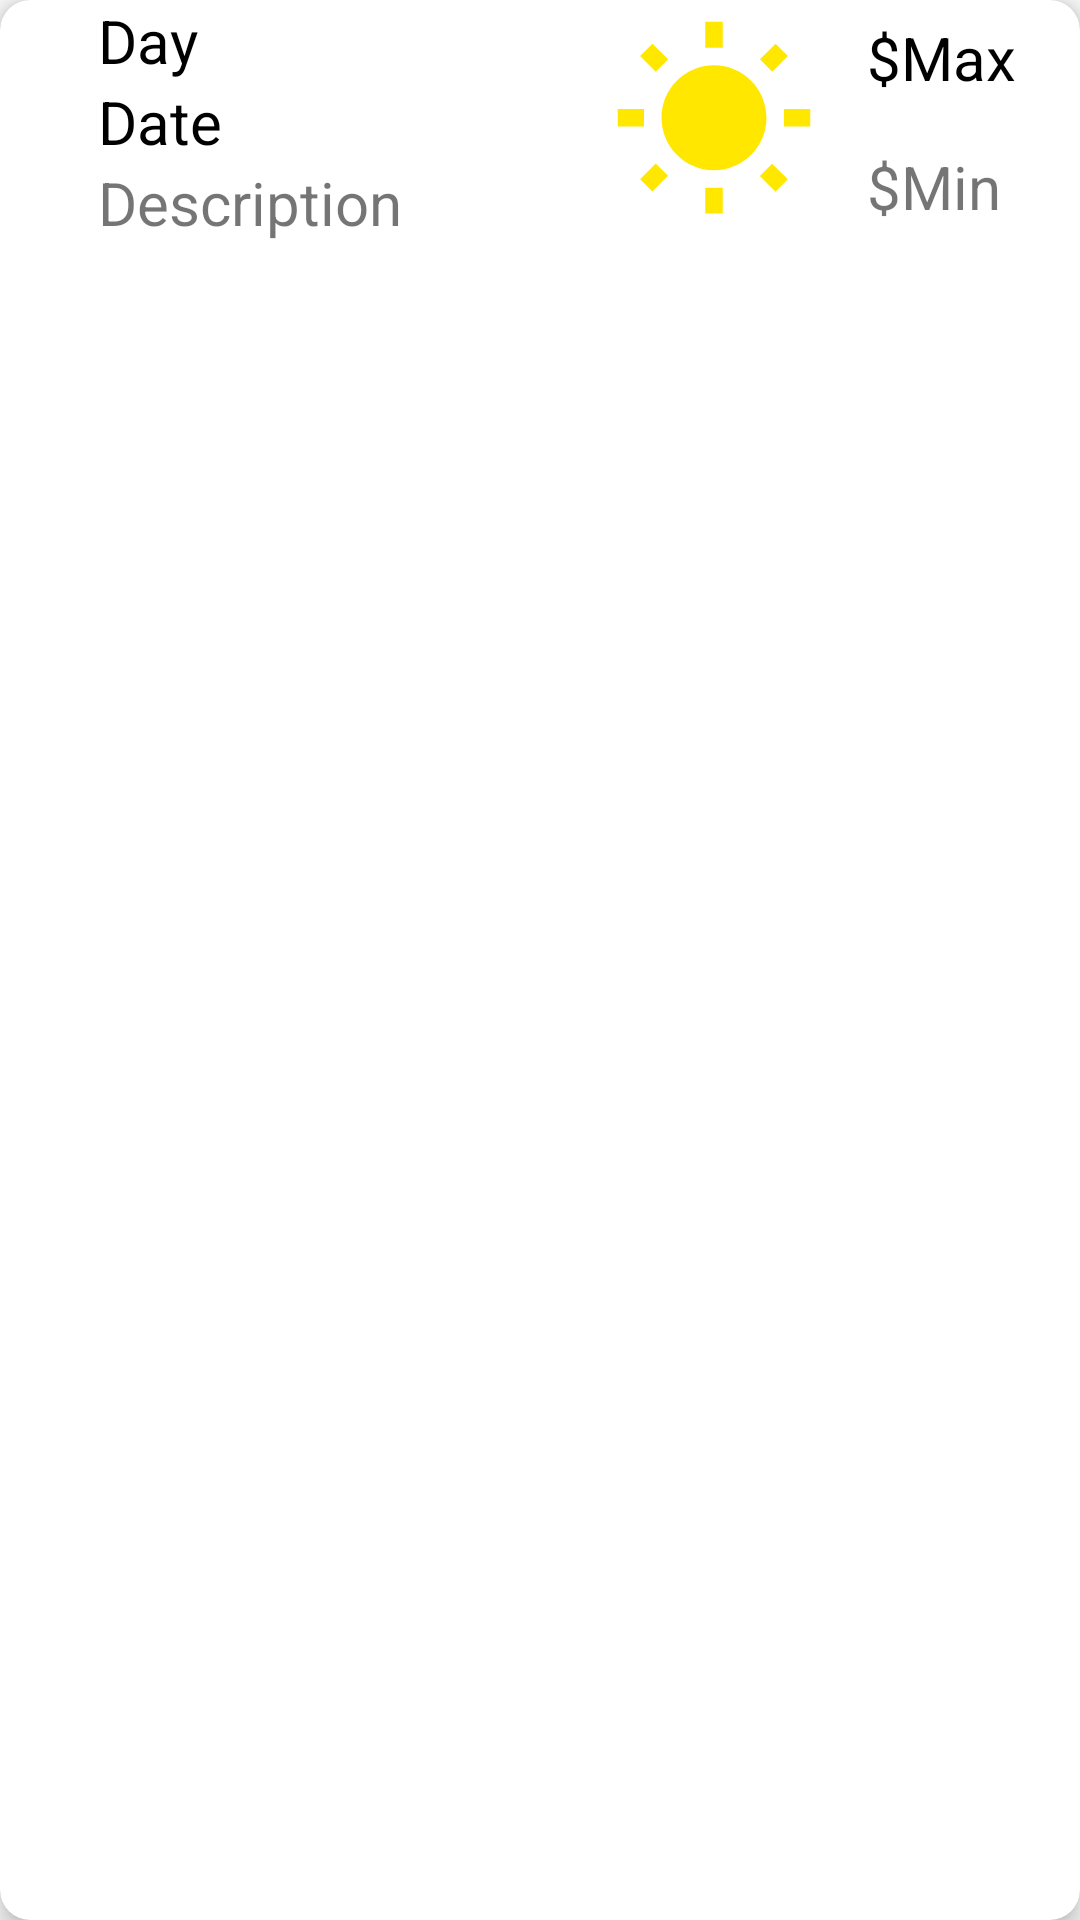

Point at icon controls on the screen. Image size 1080x1920, points as [x,y].
sunny: [714,117]
